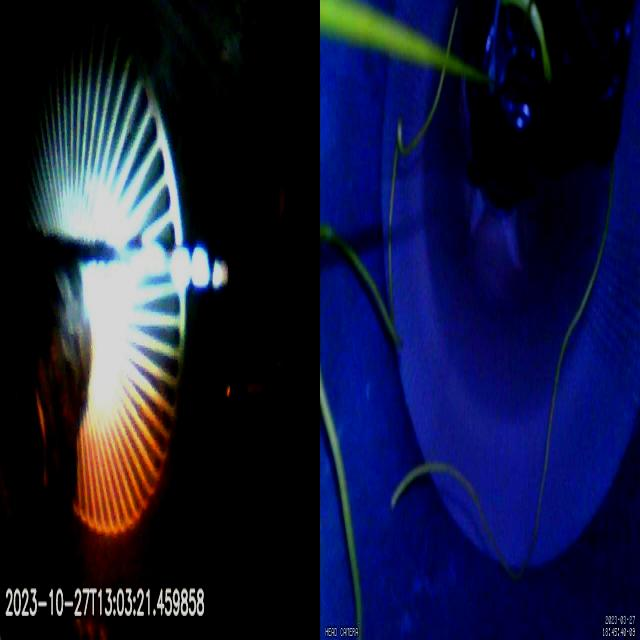white-dots: (171, 246, 228, 289)
